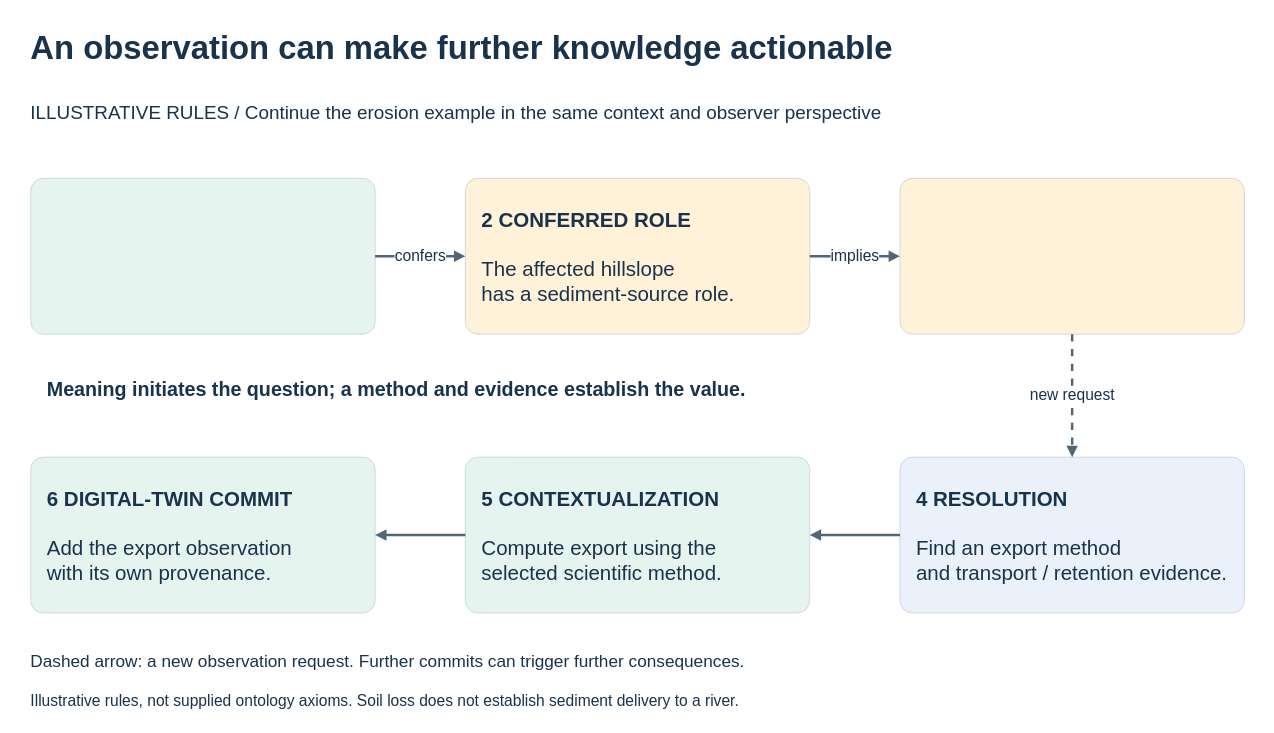
Some shapes in this 1274 by 733 pixel diagram are drawn without their labels. The centre of each missing label's shape, as x and y in pixels:
"1 COMMITTED OBSERVATION A soil-erosion process affects a hillslope." goes at point 202,256.
"3 IMPLIED REQUEST Observe sediment export from that hillslope." goes at point 1071,256.
